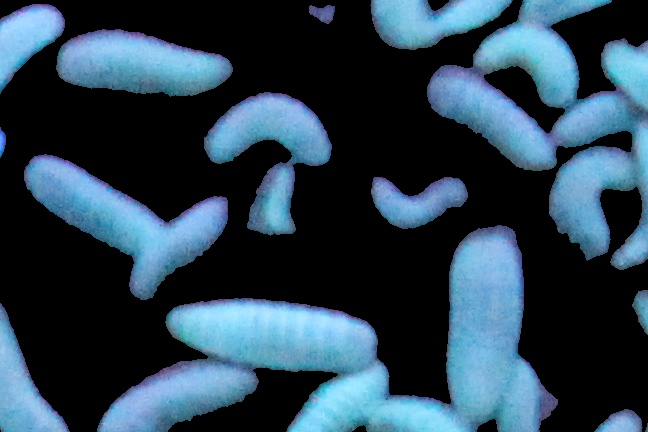larvae: (162, 290, 379, 373), (447, 231, 528, 414), (57, 26, 233, 102), (426, 64, 552, 165), (25, 158, 162, 248), (92, 363, 260, 432), (130, 195, 228, 302), (204, 90, 335, 167), (476, 17, 578, 105), (550, 148, 632, 256), (286, 365, 390, 432), (369, 173, 464, 234), (1, 2, 62, 93), (552, 90, 632, 146), (375, 392, 483, 432), (257, 168, 296, 241)
